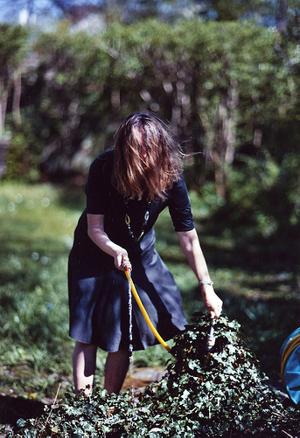person: (66, 112, 226, 408)
